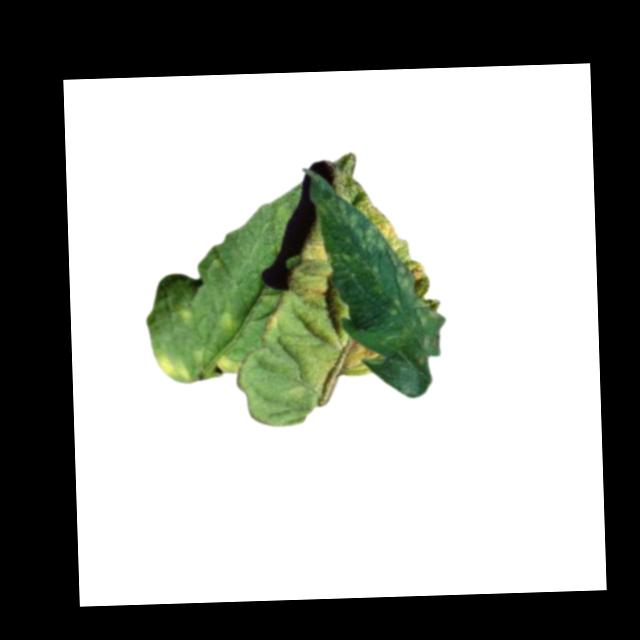Leaf_Mold: (355, 187, 430, 302), (287, 227, 332, 309), (333, 333, 383, 375), (257, 293, 288, 342), (156, 346, 193, 383), (211, 349, 242, 375), (214, 307, 243, 331)
